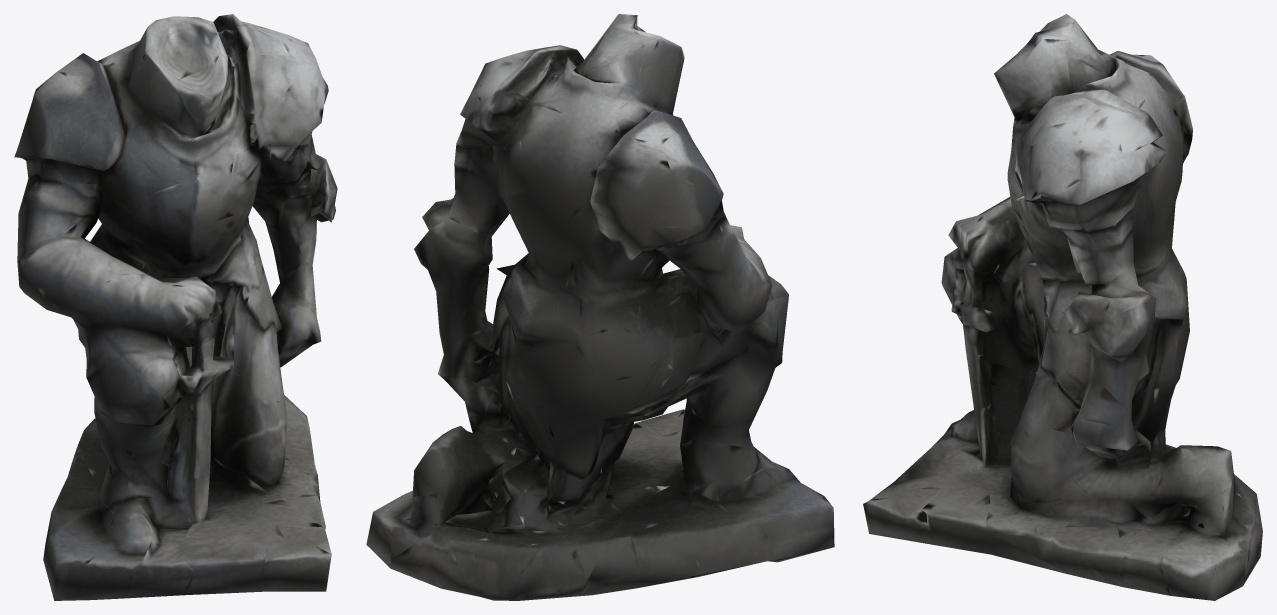
File: broken_statue.glb
3 renders of one model, left to right at view 1: azimuth 30°, elevation 25°; view 2: azimuth 150°, elevation 25°; view 3: azimuth 270°, elevation 25°, orthographic. The views are drawn at different scales.
Bounding box in the file's own units: 1.43 × 2 × 1.47.
Materials: 1 (1 with a texture image).
